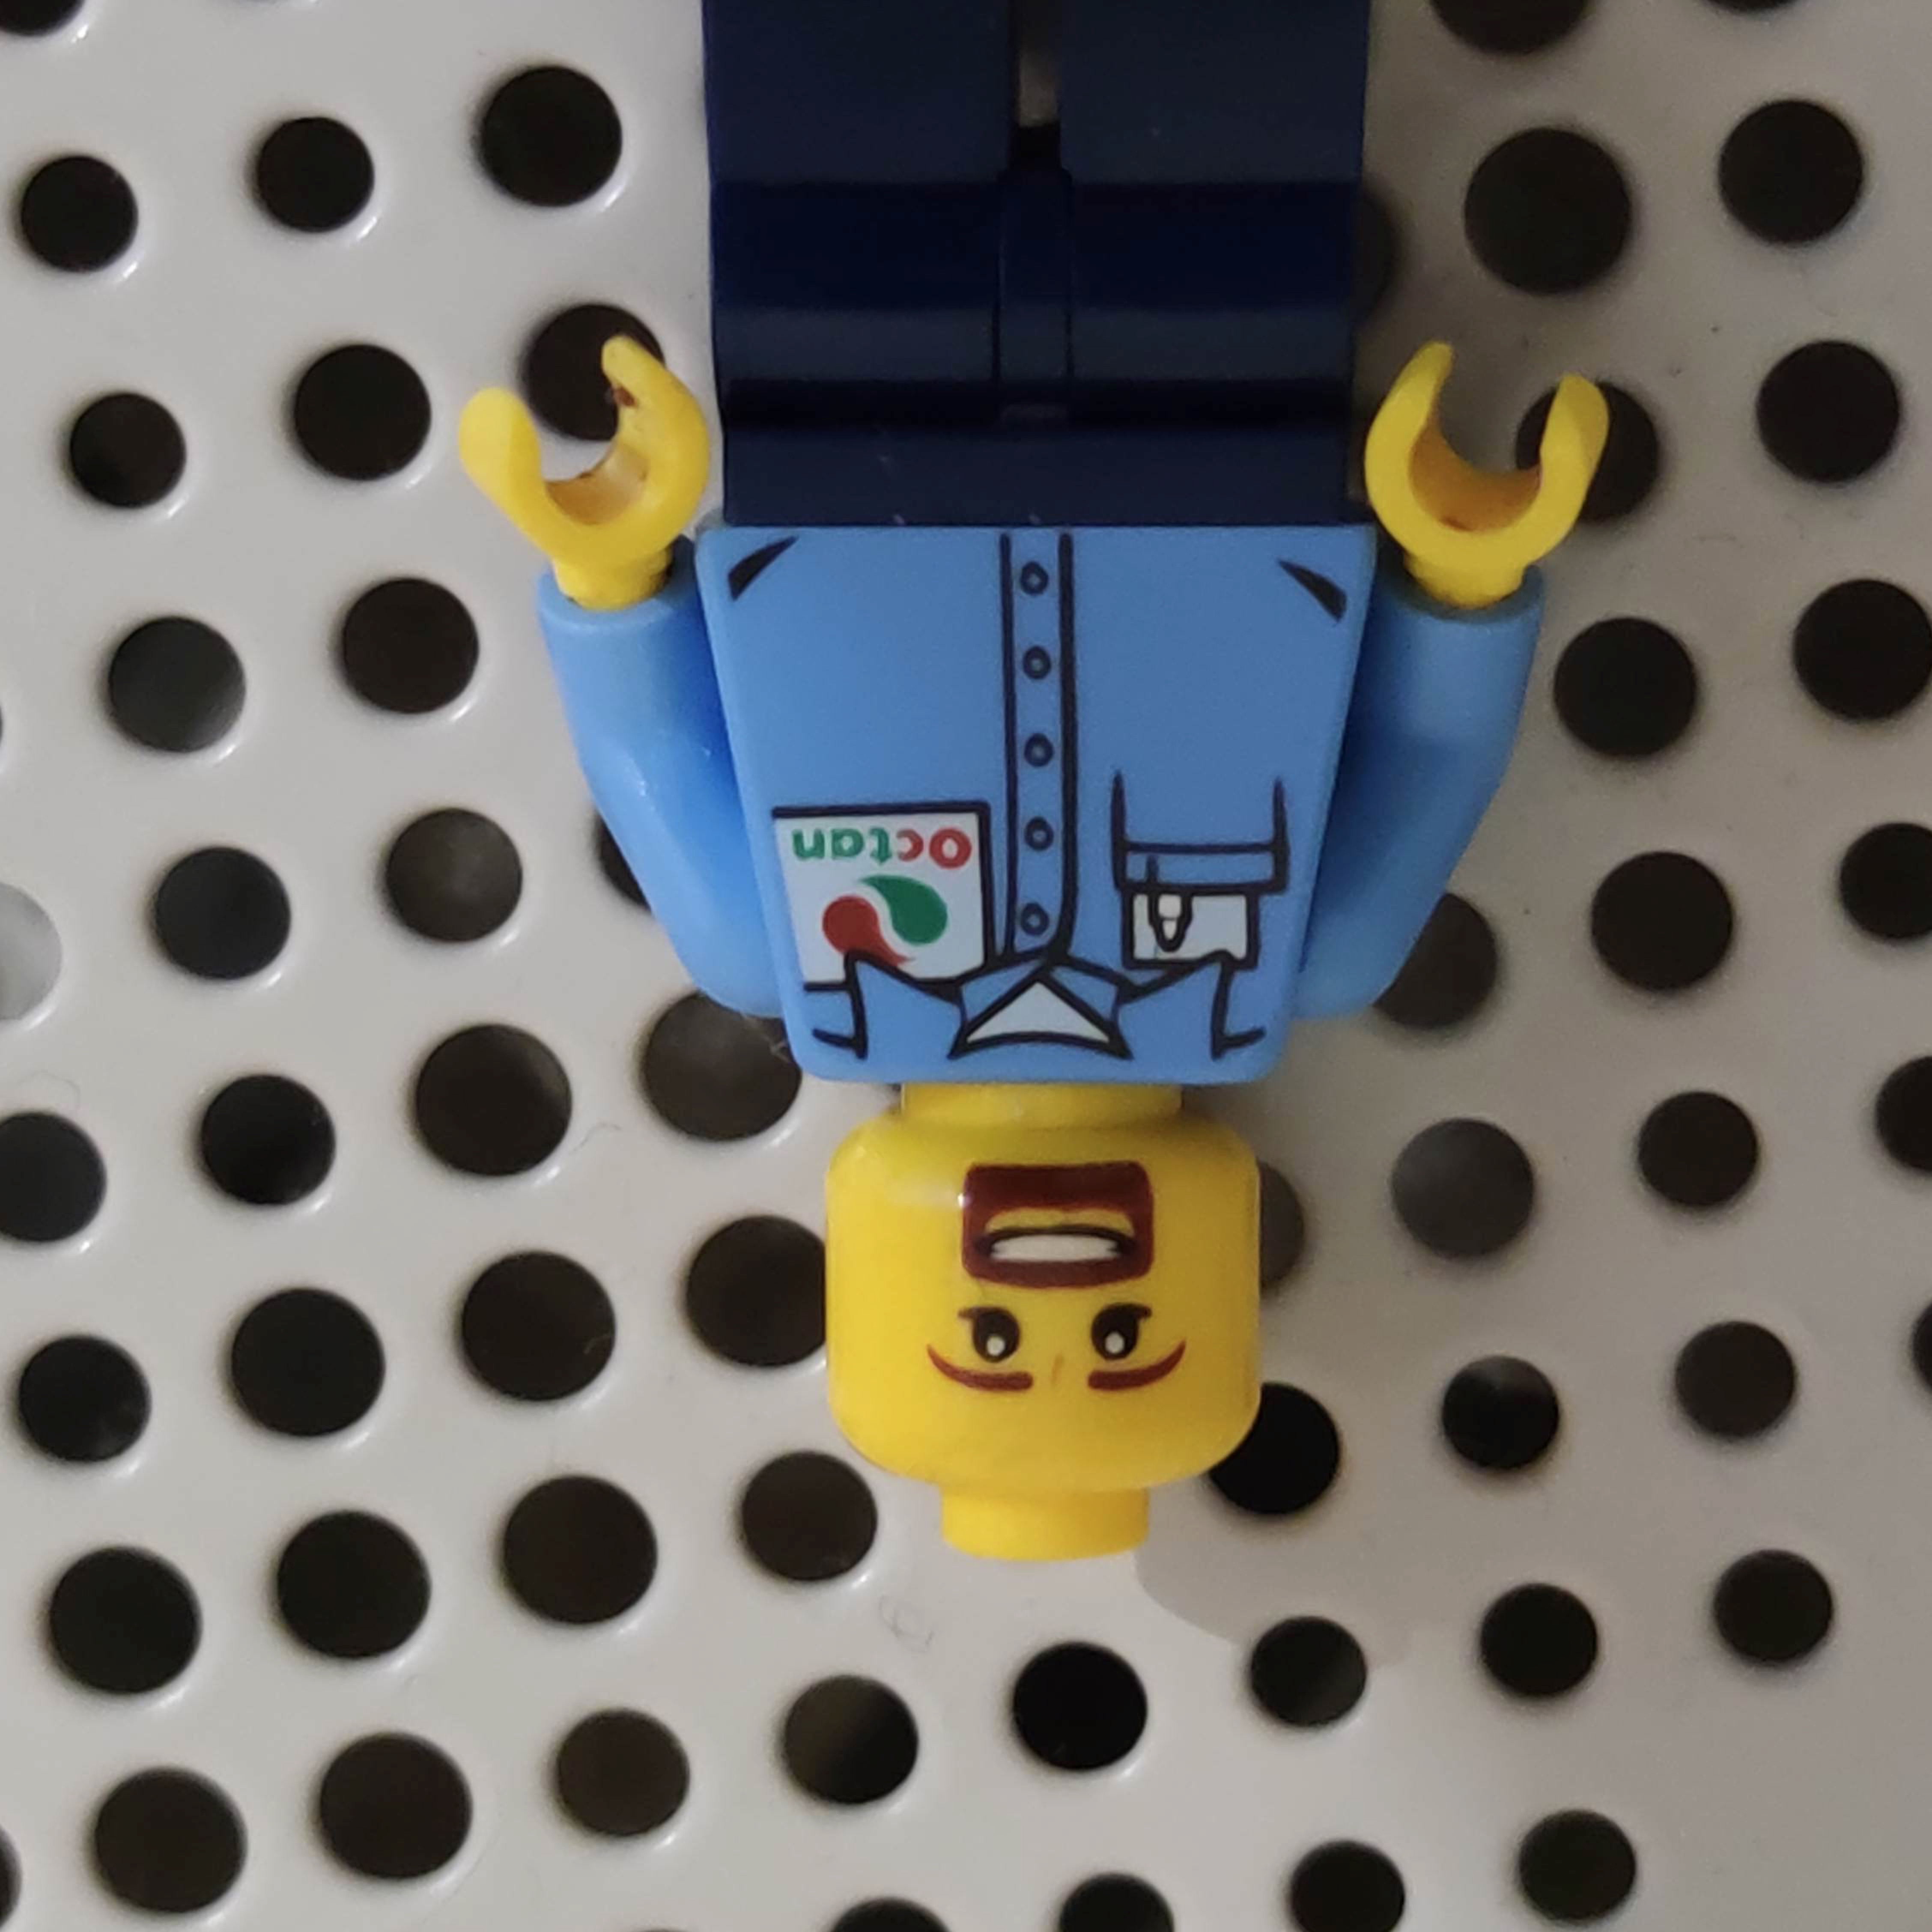lego: (467, 0, 1603, 1560)
